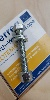FinishedAssembly: (8, 22, 38, 86)
